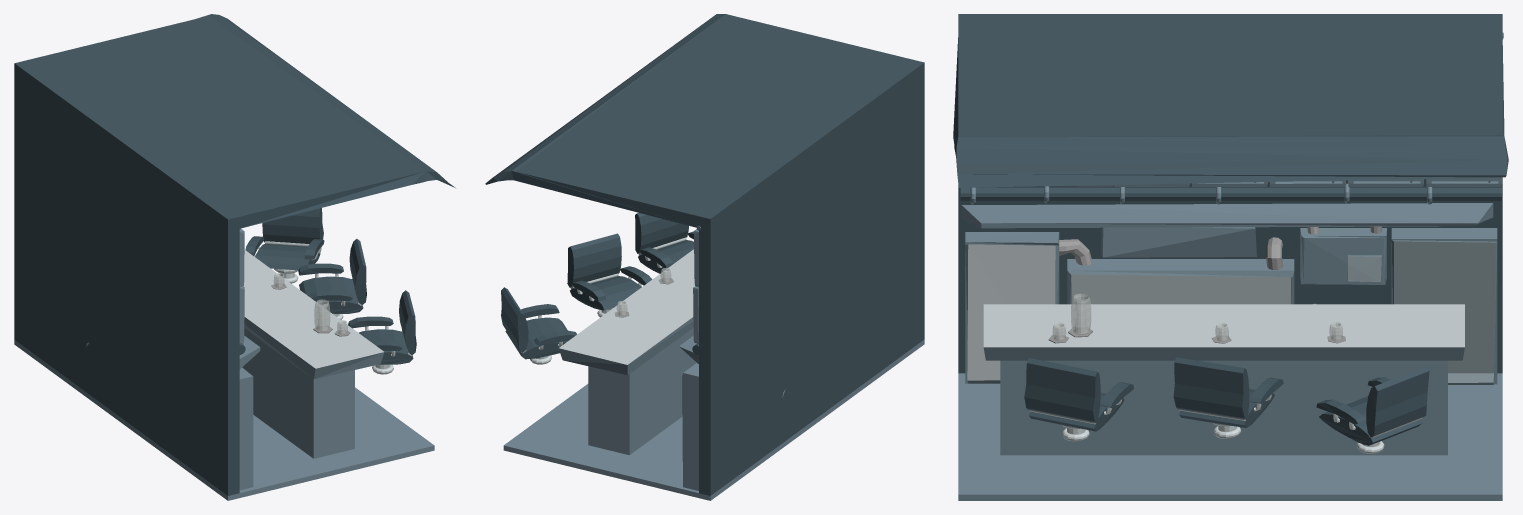
Rendered from SpaceBar.obj.
3 views of the same model, side by side, from view 1: azimuth 30°, elevation 25°; view 2: azimuth 150°, elevation 25°; view 3: azimuth 270°, elevation 25° (orthographic). The views are drawn at different scales.
Visible parts, largest first — view 1: group1130819713, group1897093413, group780848787, group712791709, group1060906866, group1972172014, group1114516919; view 2: group1130819713, group780848787, group1897093413, group712791709, group1068142959, group1972172014; view 3: group1130819713, group1068142959, group1060906866, group325673256, group1269446095, group712791709, group780848787, group1897093413, group778417009, group745253516, group1683546353, group1972172014 (+2 smaller).
Boxes of the visible parts, x1,y1,x2,y2 form: group1130819713: [14, 14, 455, 500]; group1897093413: [245, 208, 324, 283]; group780848787: [298, 239, 366, 319]; group712791709: [348, 290, 416, 374]; group1060906866: [239, 367, 253, 490]; group1972172014: [239, 229, 244, 343]; group1114516919: [314, 299, 330, 331]; group1130819713: [485, 14, 924, 500]; group780848787: [567, 233, 652, 317]; group1897093413: [501, 287, 576, 364]; group712791709: [635, 213, 693, 273]; group1068142959: [682, 363, 698, 490]; group1972172014: [693, 229, 698, 343]; group1130819713: [953, 14, 1508, 500]; group1068142959: [1391, 228, 1497, 384]; group1060906866: [965, 232, 1059, 383]; group325673256: [960, 187, 1501, 200]; group1269446095: [1071, 274, 1290, 304]; group712791709: [1024, 358, 1133, 441]; group780848787: [1173, 357, 1283, 438]; group1897093413: [1316, 366, 1429, 453]; group778417009: [1300, 228, 1387, 284]; group745253516: [1101, 227, 1256, 257]; group1683546353: [1067, 259, 1294, 304]; group1972172014: [1032, 177, 1502, 186].
Size of the model in its own units: 1.67 by 1.75 by 2.42.
